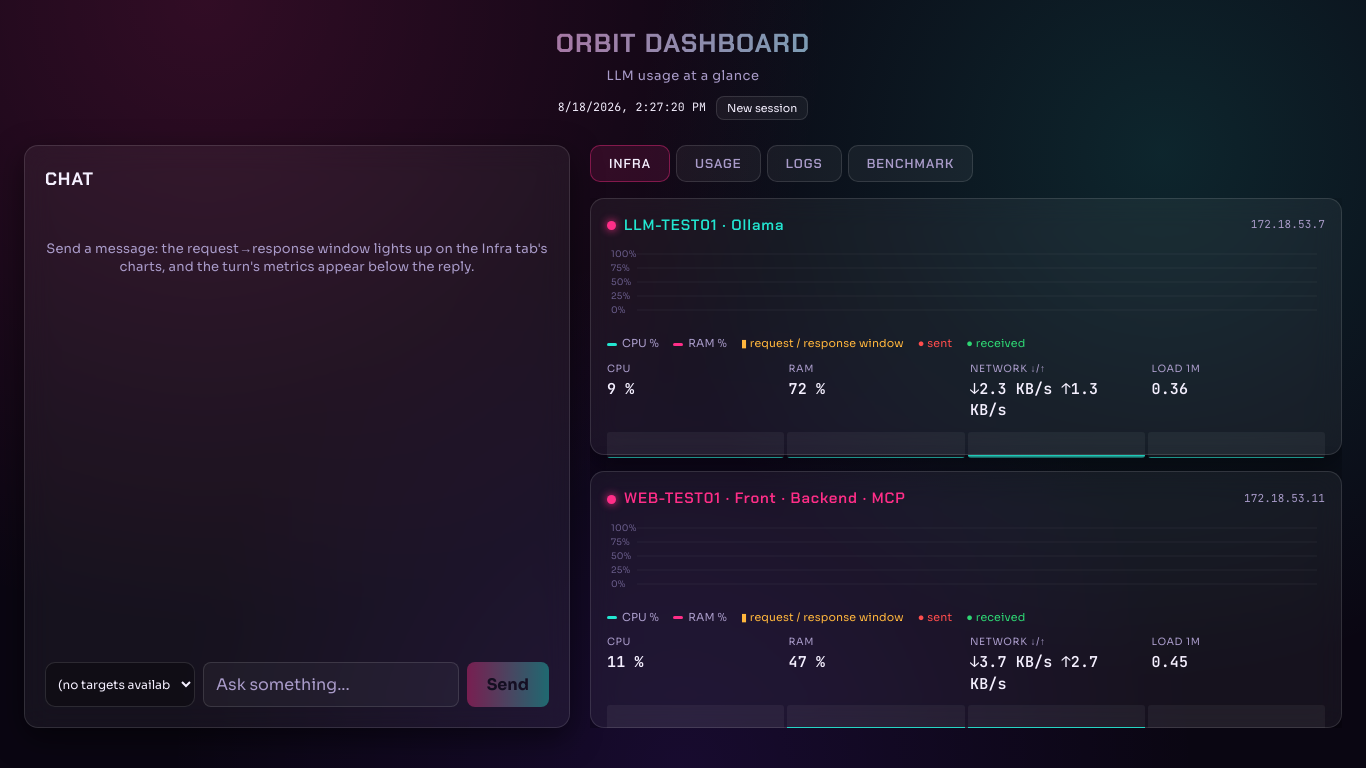
Scenario: App › la bande d'appels n'apparaît que sur l'onglet Infra
expect the text "LLM-TEST01 · Ollama" is shown: met, box [607,214,784,236]
Click the tab "Usage" at [718, 163], box [676,144,761,182]
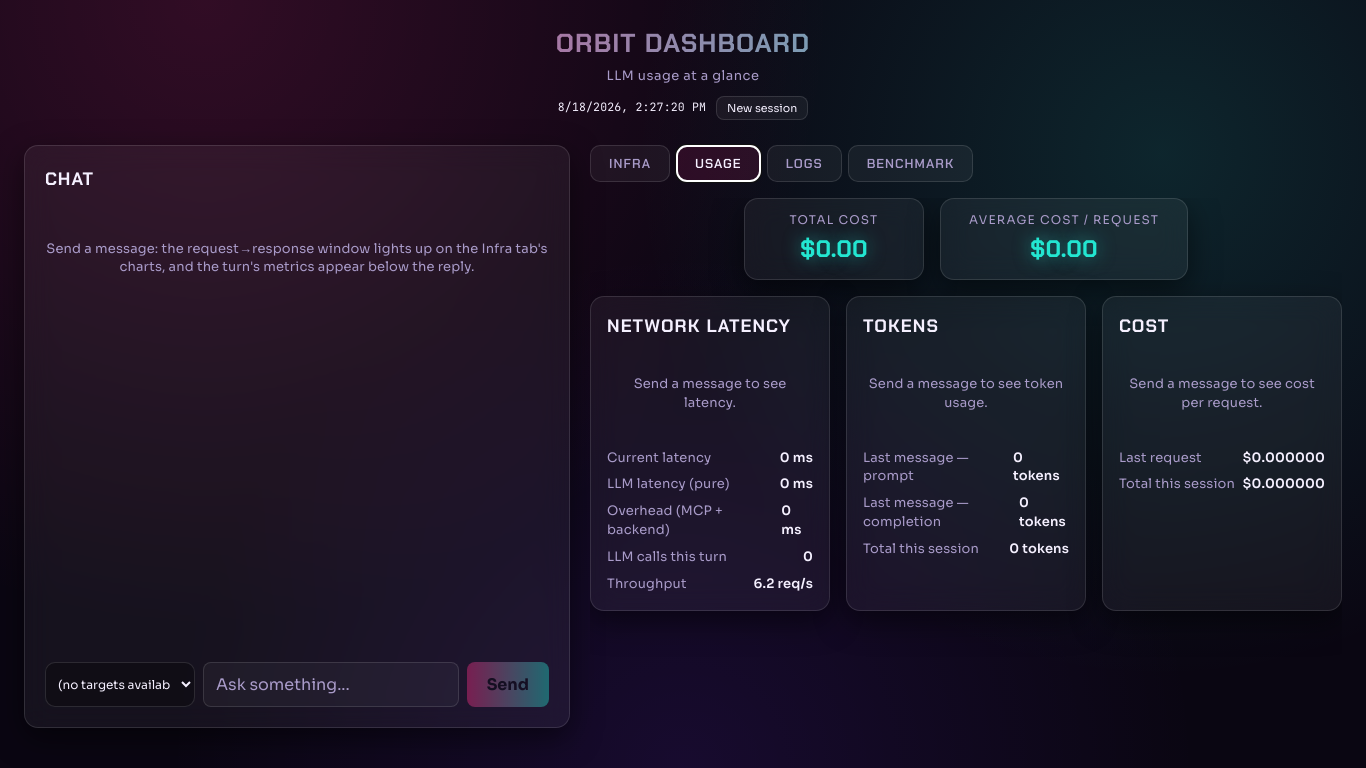
expect the element "token usage" is shown: met, box [846,296,1086,610]
